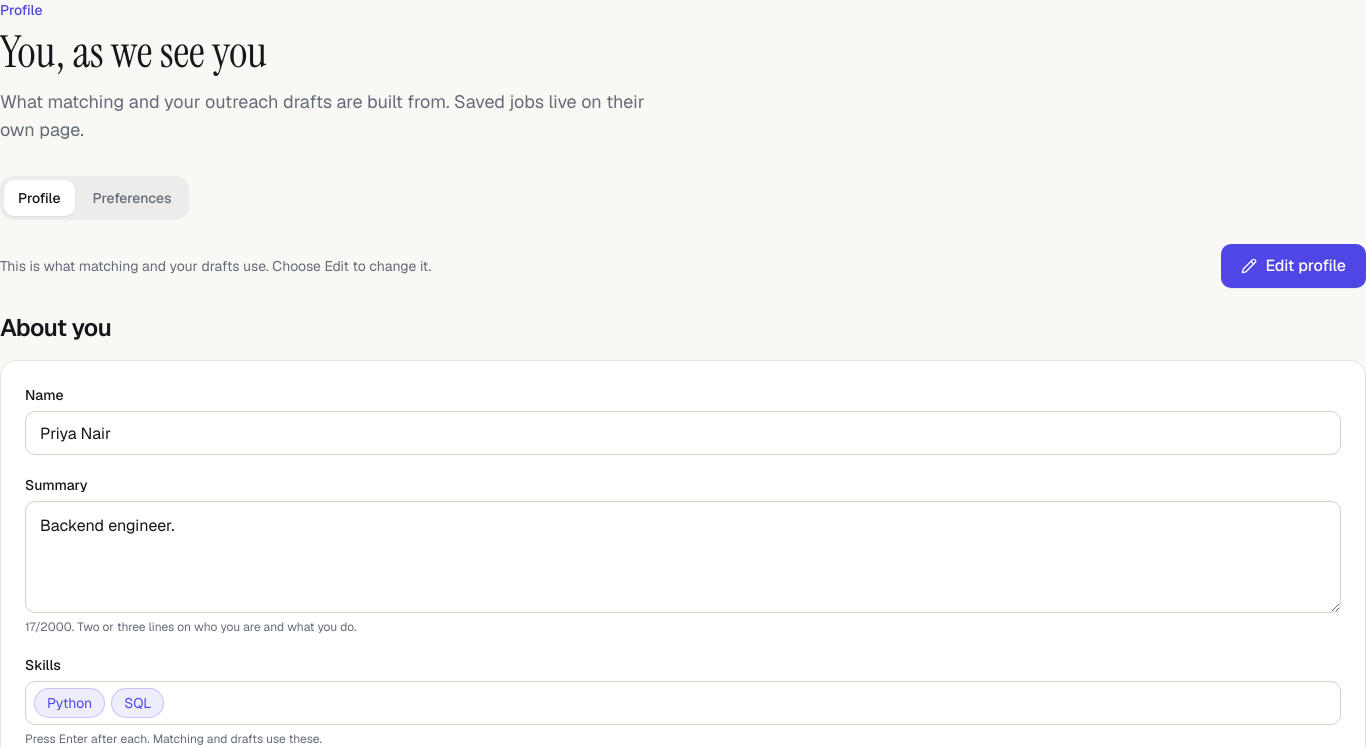
Test: Profile editing › cancel with unsaved changes asks first; keep editing preserves them, discard restores the saved profile
This screenshot has width=1366, height=747.
Click the button "Edit profile": (1294, 266) [1221,244,1365,288]
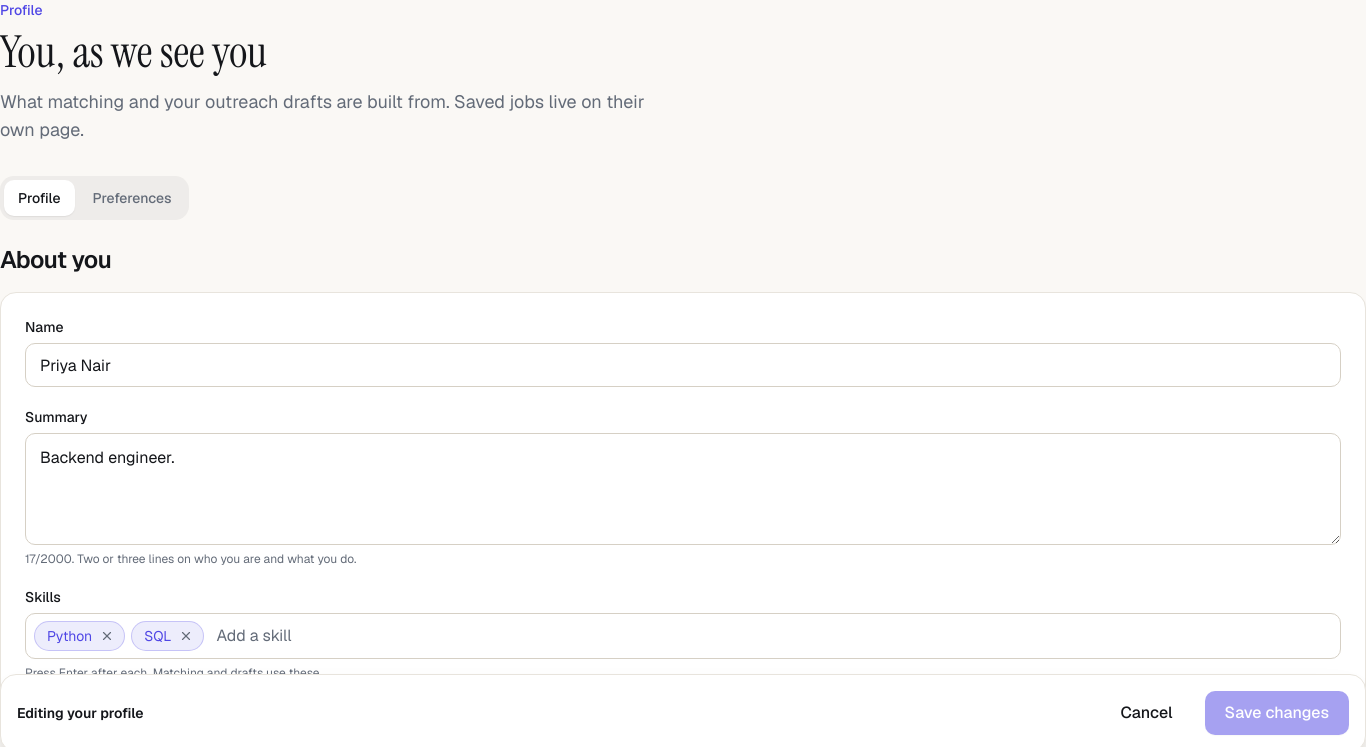
In the field labelled "Name": (683, 365) [25,343,1341,387], type "x"
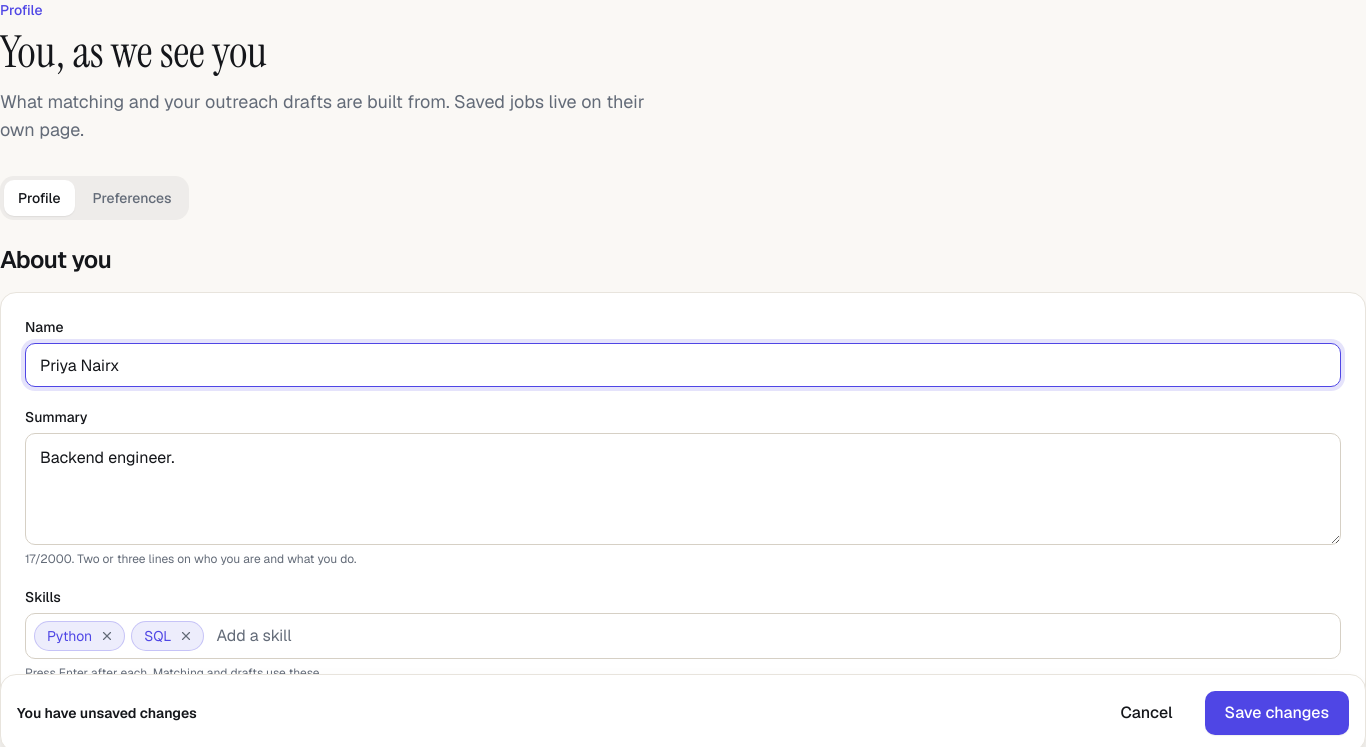
Click the button "Cancel": (1147, 713) [1100,691,1193,735]
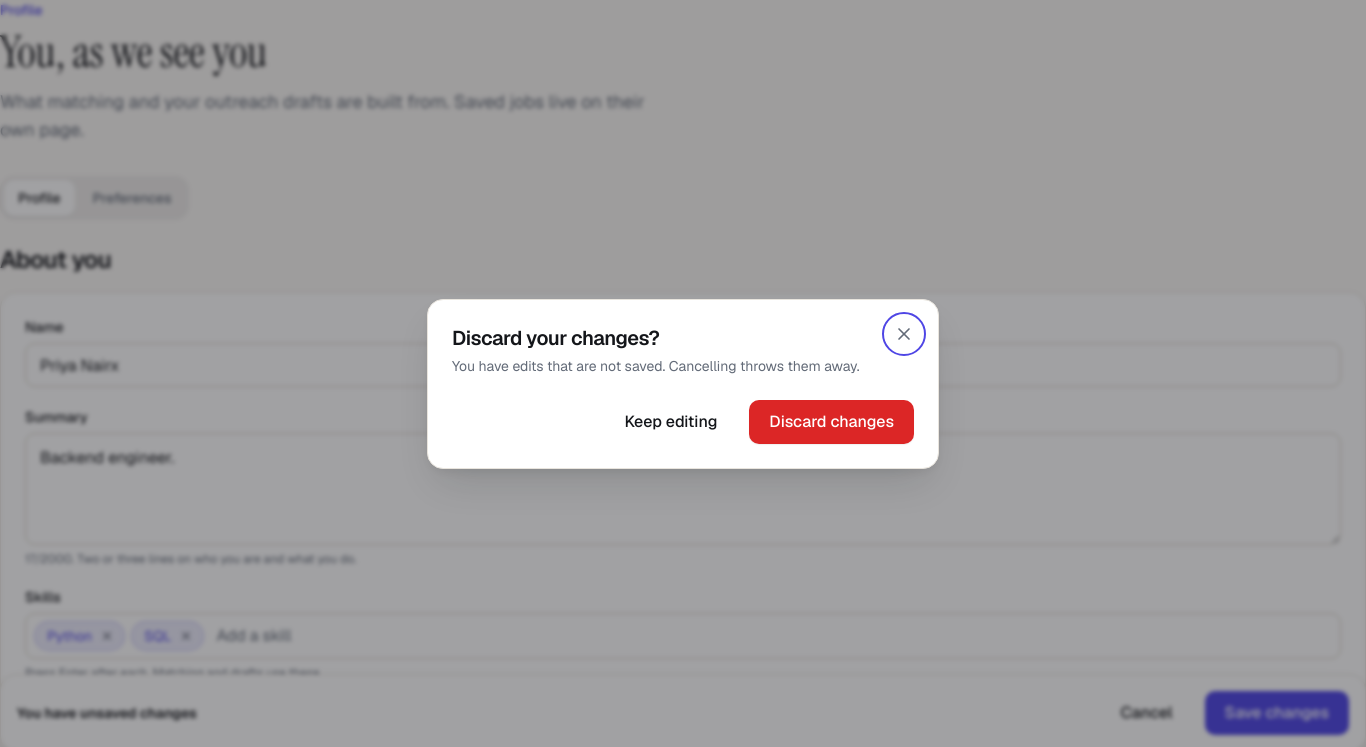
Click the button "Keep editing": (671, 422) [604,400,737,444]
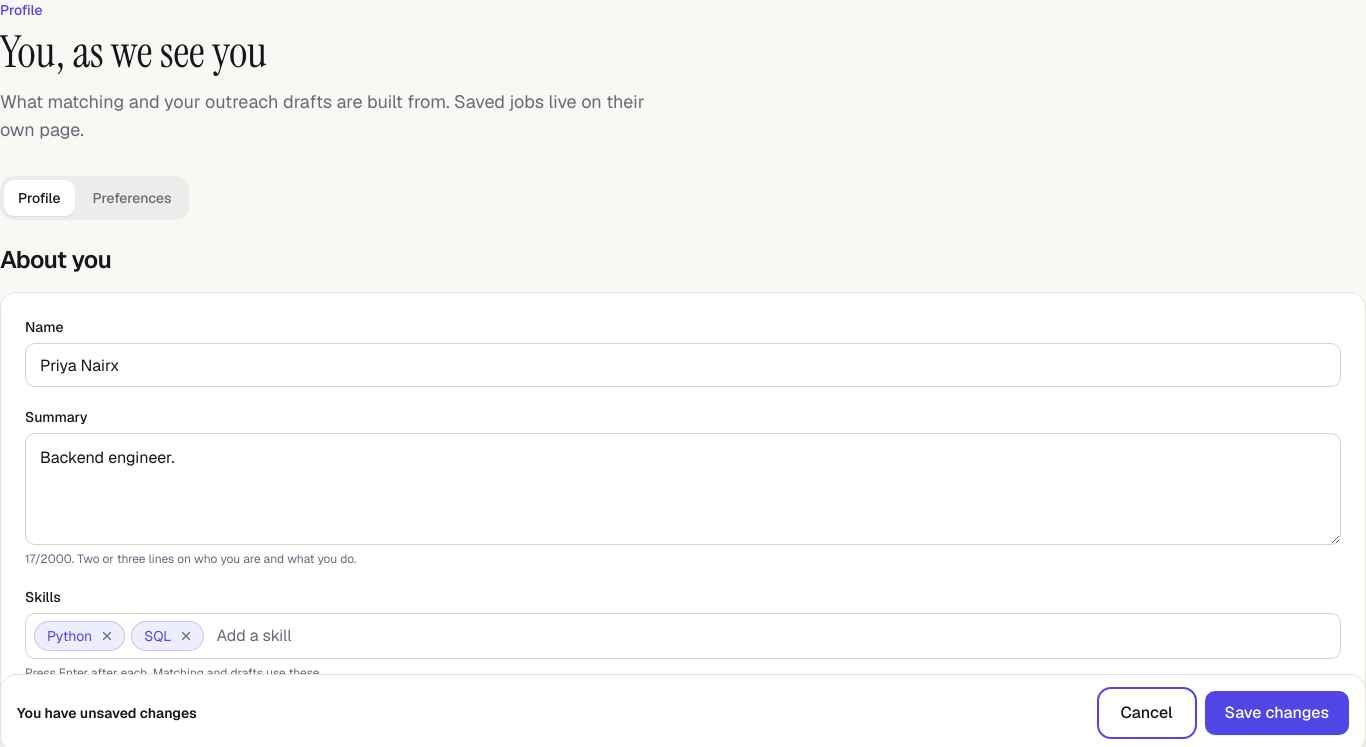
Expected: the field labelled "Name" is enabled, [25,343,1341,387]
Expected: the field labelled "Name" holds "Priya Nairx", [25,343,1341,387]
Expected: the dialog is gone
Click the button "Cancel": (1147, 713) [1100,691,1193,735]
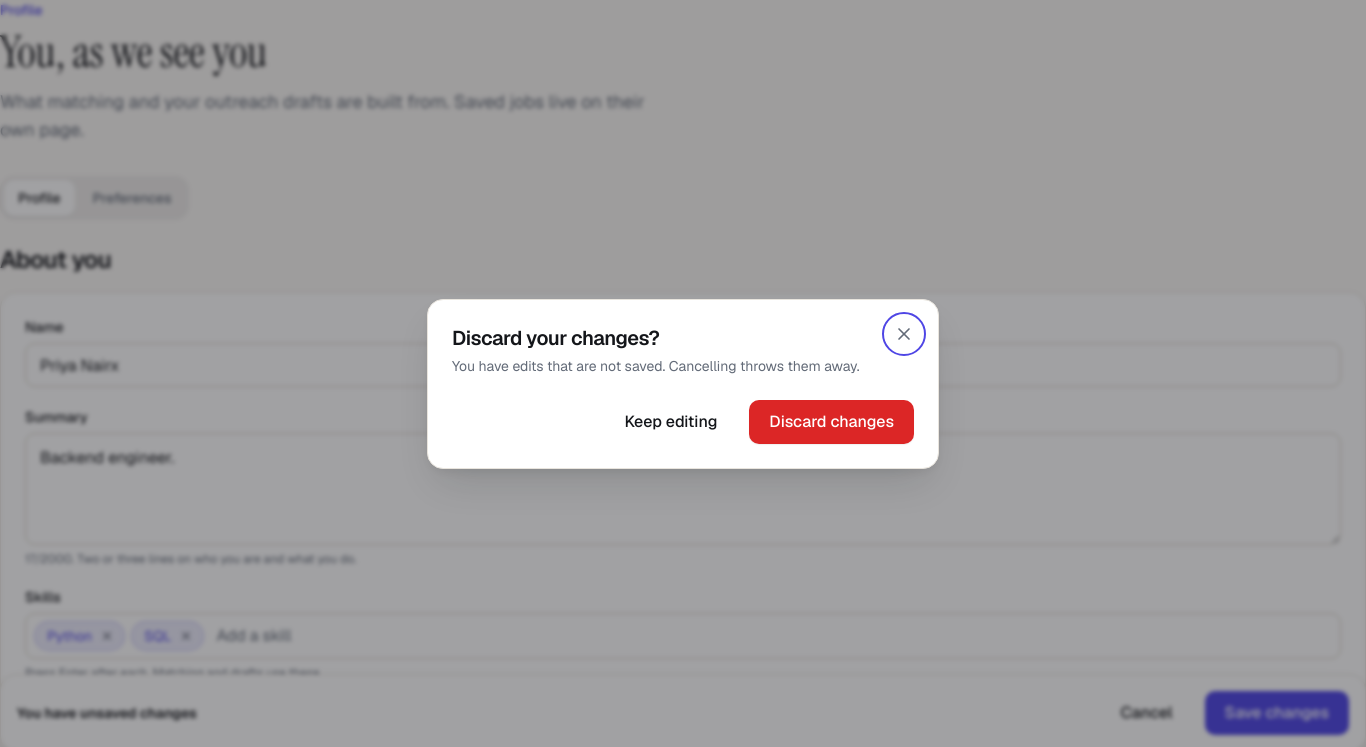
Click the button "Discard changes": (832, 422) [749,400,914,444]
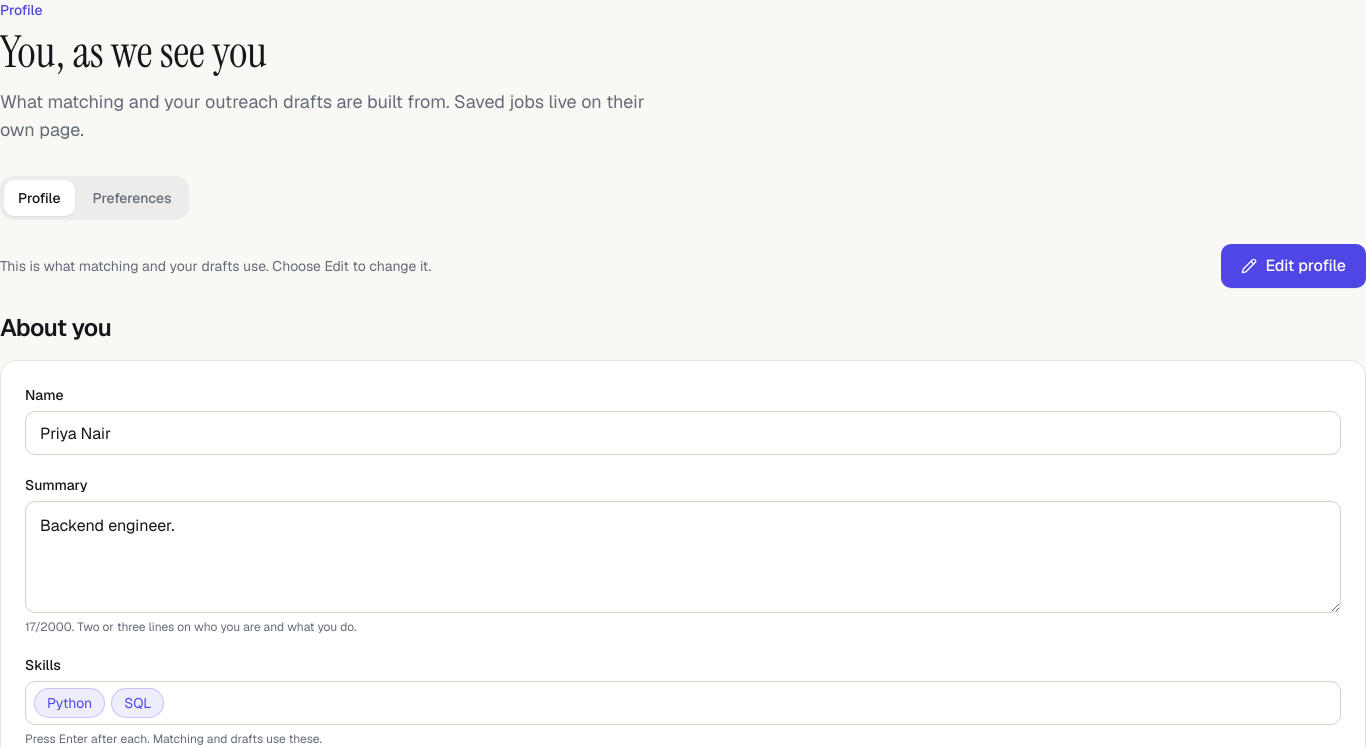
Expected: the field labelled "Name" is disabled, [25,411,1341,455]
Expected: the field labelled "Name" holds "Priya Nair", [25,411,1341,455]
